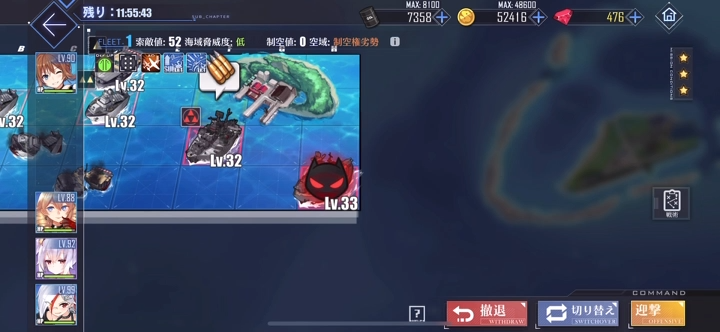boss: (293, 158, 353, 213)
lv3: (178, 105, 260, 174)
